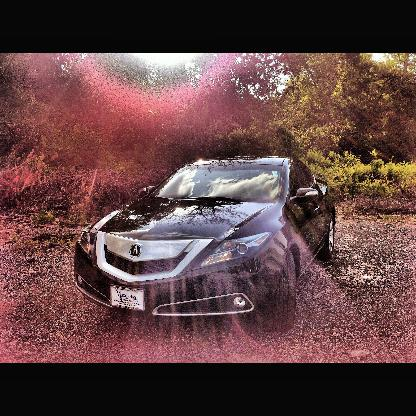Acura ZDX Hatchback 2012: (74, 153, 337, 335)
